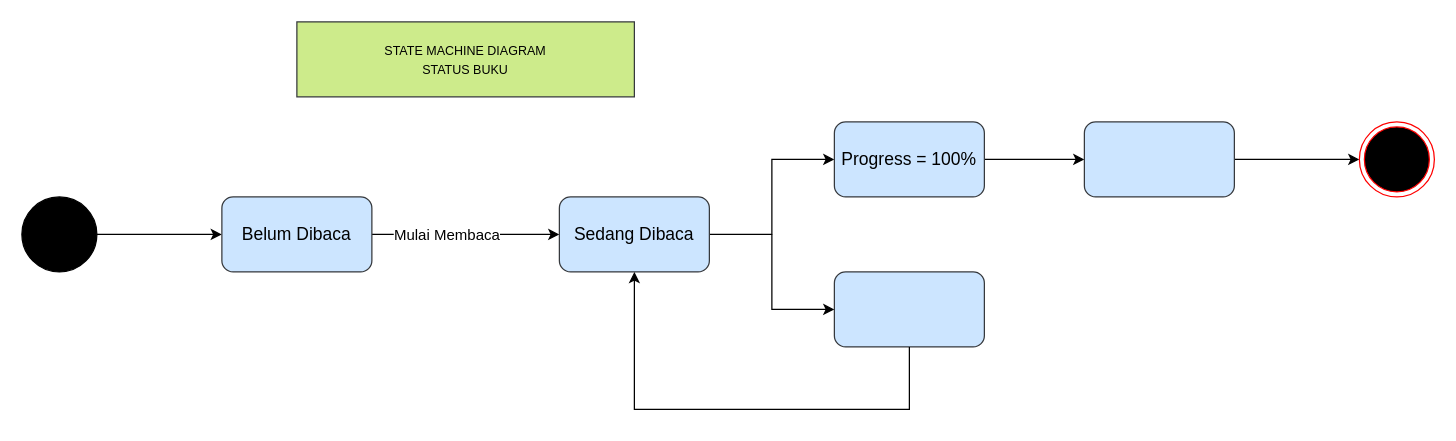
This 1456x441 diagram has some shape labels left out. The centre of each missing label's shape, as x and y in pixels:
"Progress <= 100%" belongs at [908,309].
"Selesai Dibaca" belongs at [1158,159].
